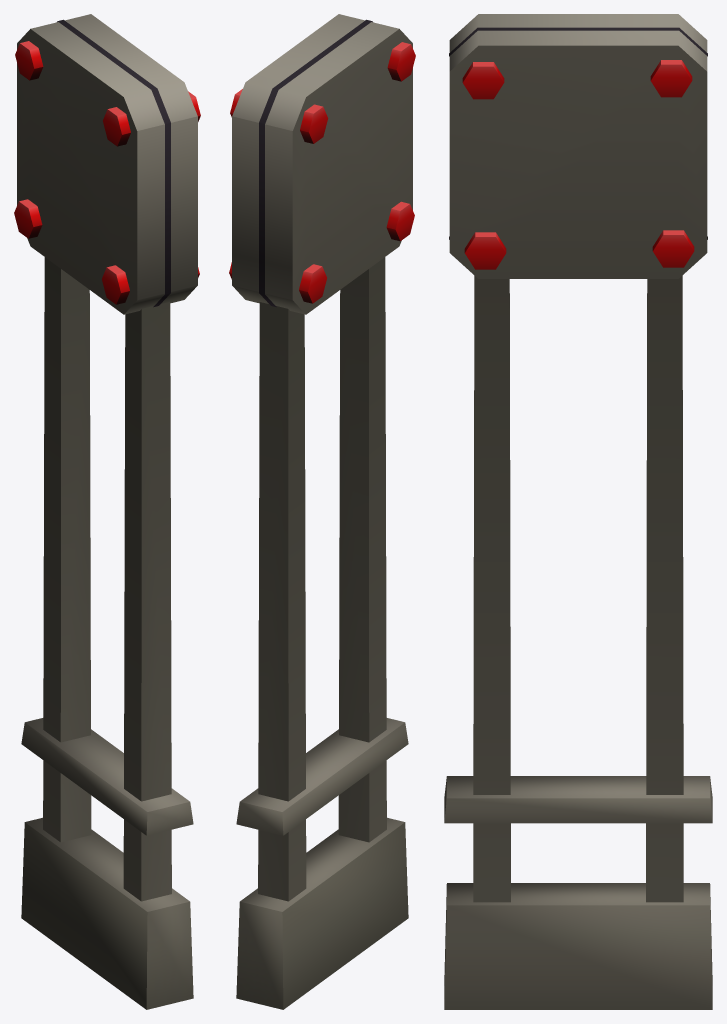
The model's file is Pipe_Support_1A.fbx.
3 renders of one model, left to right at view 1: azimuth 30°, elevation 25°; view 2: azimuth 150°, elevation 25°; view 3: azimuth 270°, elevation 25°, orthographic. The views are drawn at different scales.
Visible parts, largest first — view 1: Scaleable_Addon_1A, Pipe_Support_1A; view 2: Scaleable_Addon_1A, Pipe_Support_1A; view 3: Scaleable_Addon_1A, Pipe_Support_1A.
Boxes of the visible parts, left/top/right/bottom form: Scaleable_Addon_1A: left=21, top=257, right=193, bottom=1009; Pipe_Support_1A: left=14, top=14, right=200, bottom=314; Scaleable_Addon_1A: left=236, top=257, right=408, bottom=1009; Pipe_Support_1A: left=229, top=14, right=415, bottom=314; Scaleable_Addon_1A: left=444, top=275, right=712, bottom=1009; Pipe_Support_1A: left=449, top=14, right=707, bottom=278.
Bounding box in the file's own units: 0.5197 × 5.69 × 1.43.
